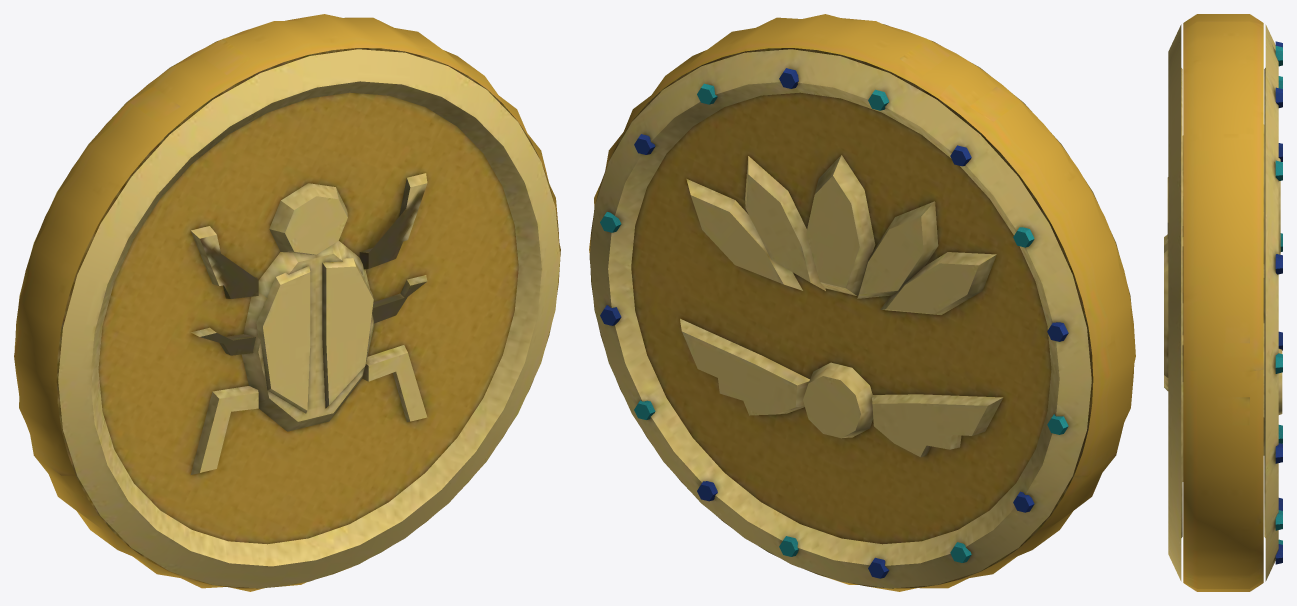
The picture shows the model from 3 angles, left to right: view 1: azimuth 30°, elevation 25°; view 2: azimuth 150°, elevation 25°; view 3: azimuth 270°, elevation 25°; orthographic projection. The views are drawn at different scales.
Visible parts, largest first — view 1: Treasury_polished_gold, Raised_pale_gold; view 2: Treasury_polished_gold, Raised_pale_gold, Lapis_enamel, Turquoise_enamel; view 3: Treasury_polished_gold, Raised_pale_gold, Lapis_enamel, Turquoise_enamel.
Part boxes in pixels (x1,y1,x2,y2): Treasury_polished_gold: [14, 14, 560, 591]; Raised_pale_gold: [14, 40, 560, 588]; Treasury_polished_gold: [589, 14, 1135, 591]; Raised_pale_gold: [589, 24, 1131, 588]; Lapis_enamel: [600, 68, 1068, 578]; Turquoise_enamel: [600, 83, 1068, 562]; Treasury_polished_gold: [1183, 14, 1263, 591]; Raised_pale_gold: [1164, 24, 1282, 581]; Lapis_enamel: [1275, 41, 1282, 564]; Turquoise_enamel: [1275, 46, 1282, 544].
Size of the model in its own units: 0.964 by 0.964 by 0.198.
4 materials, 4 textured.
